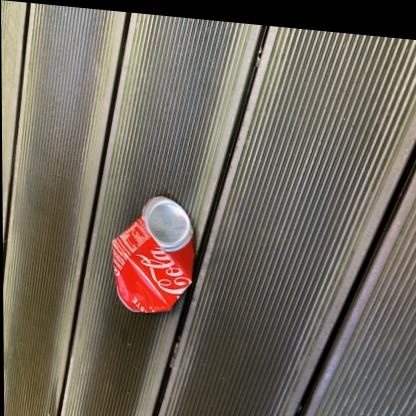trash: (112, 196, 193, 312)
